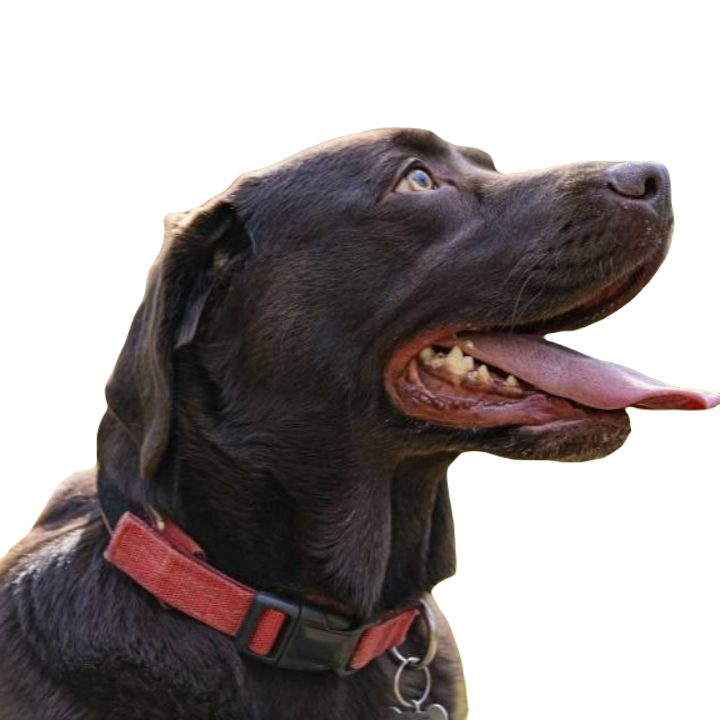Dog: (2, 120, 719, 717)
